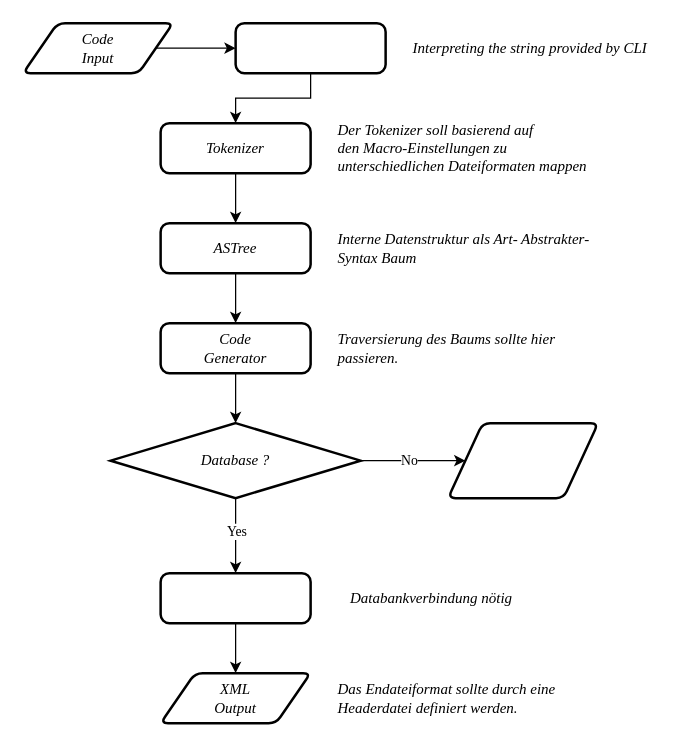
Some shapes in this 695 by 745 pixel diagram are drawn without their labels. The shapes that lost their labels are listed below. From the top down, each one's centre as x and y in pixels, then its label:
At (310,47): "CLIinterpretes".
At (522,460): "Intermediate Code Output".
At (235,597): "Execute query in Database".
